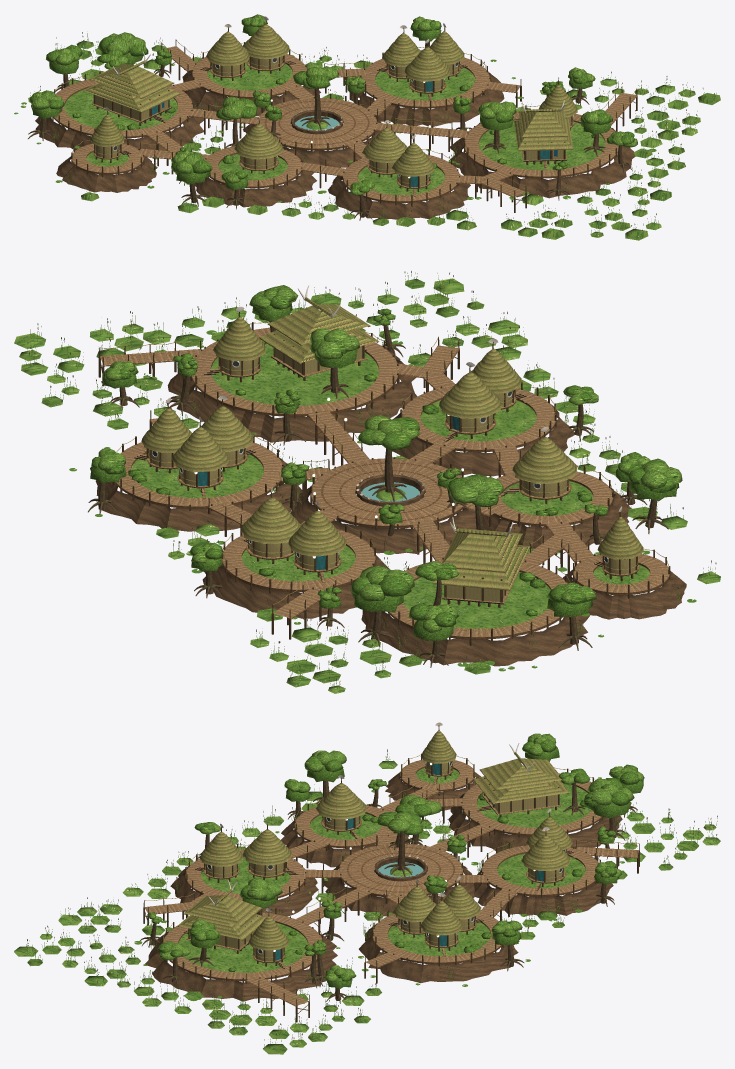
The model's file is frogtown_v2.glb.
3 renders of one model, top to bottom at view 1: azimuth 30°, elevation 25°; view 2: azimuth 150°, elevation 25°; view 3: azimuth 270°, elevation 25°, orthographic. The views are drawn at different scales.
Parts seen in each view (by area): view 1: frogtown_v2, frogtown_v2_foliage; view 2: frogtown_v2, frogtown_v2_foliage; view 3: frogtown_v2, frogtown_v2_foliage.
Part boxes in pixels (box(x1,y1,x2,y2)): frogtown_v2: box(14, 16, 656, 220); frogtown_v2_foliage: box(28, 14, 720, 240); frogtown_v2: box(69, 285, 696, 671); frogtown_v2_foliage: box(14, 271, 720, 693); frogtown_v2: box(134, 722, 639, 1022); frogtown_v2_foliage: box(14, 733, 720, 1054).
Size of the model in its own units: 94.63 by 10.77 by 95.62.
19 materials, 16 textured.
